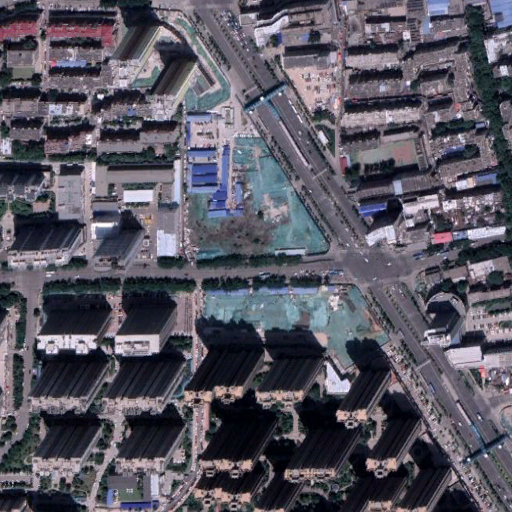cw: (186, 136, 325, 254), (201, 284, 390, 367), (134, 17, 234, 113)
